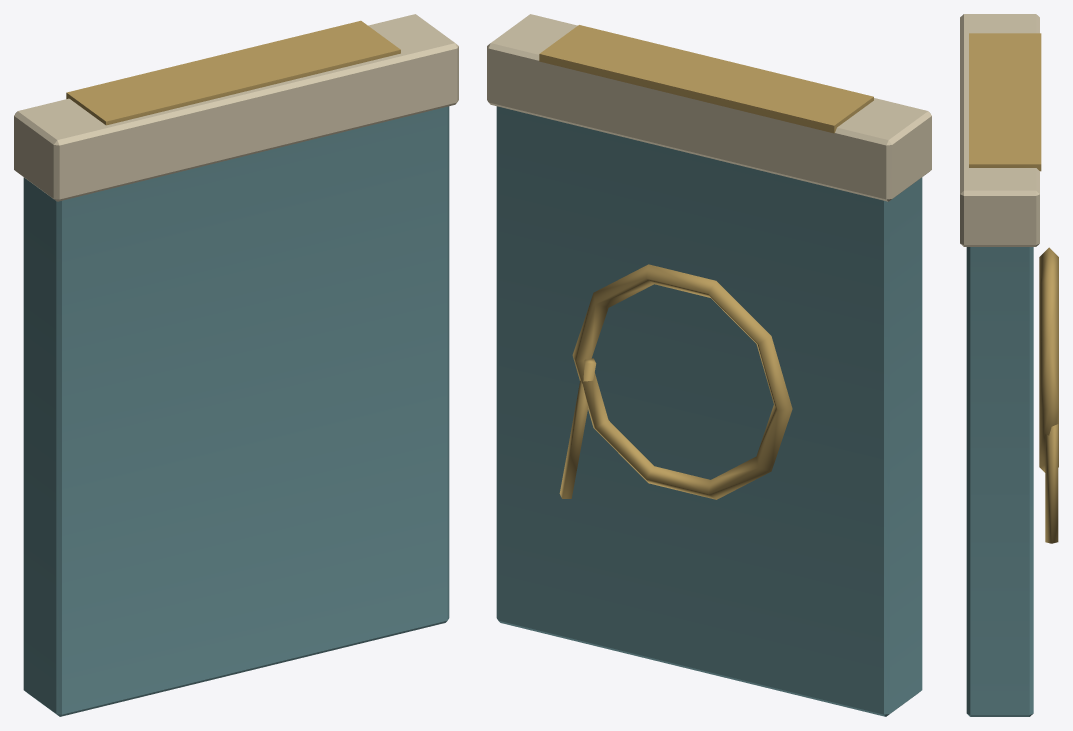
Rendered from guitar_string_low.glb.
3 renders of one model, left to right at view 1: azimuth 30°, elevation 25°; view 2: azimuth 150°, elevation 25°; view 3: azimuth 270°, elevation 25°, orthographic. The views are drawn at different scales.
Bounding box in the file's own units: 0.165 × 0.2275 × 0.0383.
